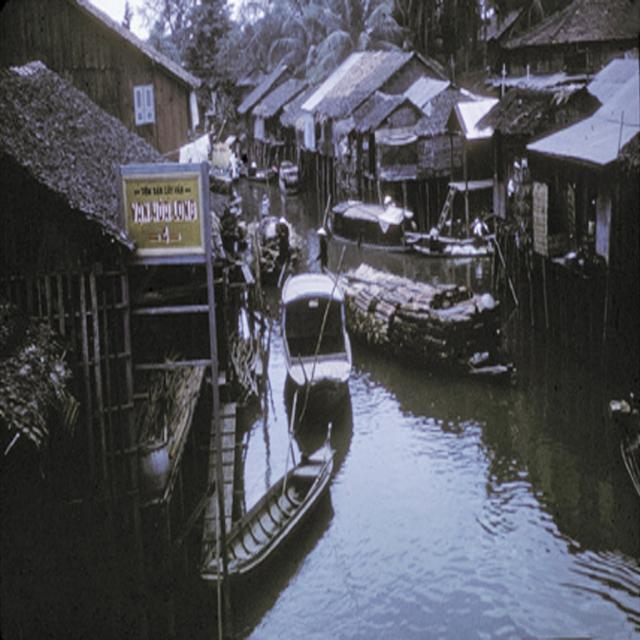Boat: (198, 386, 336, 590), (318, 171, 500, 301), (280, 264, 356, 389), (258, 195, 304, 277)
